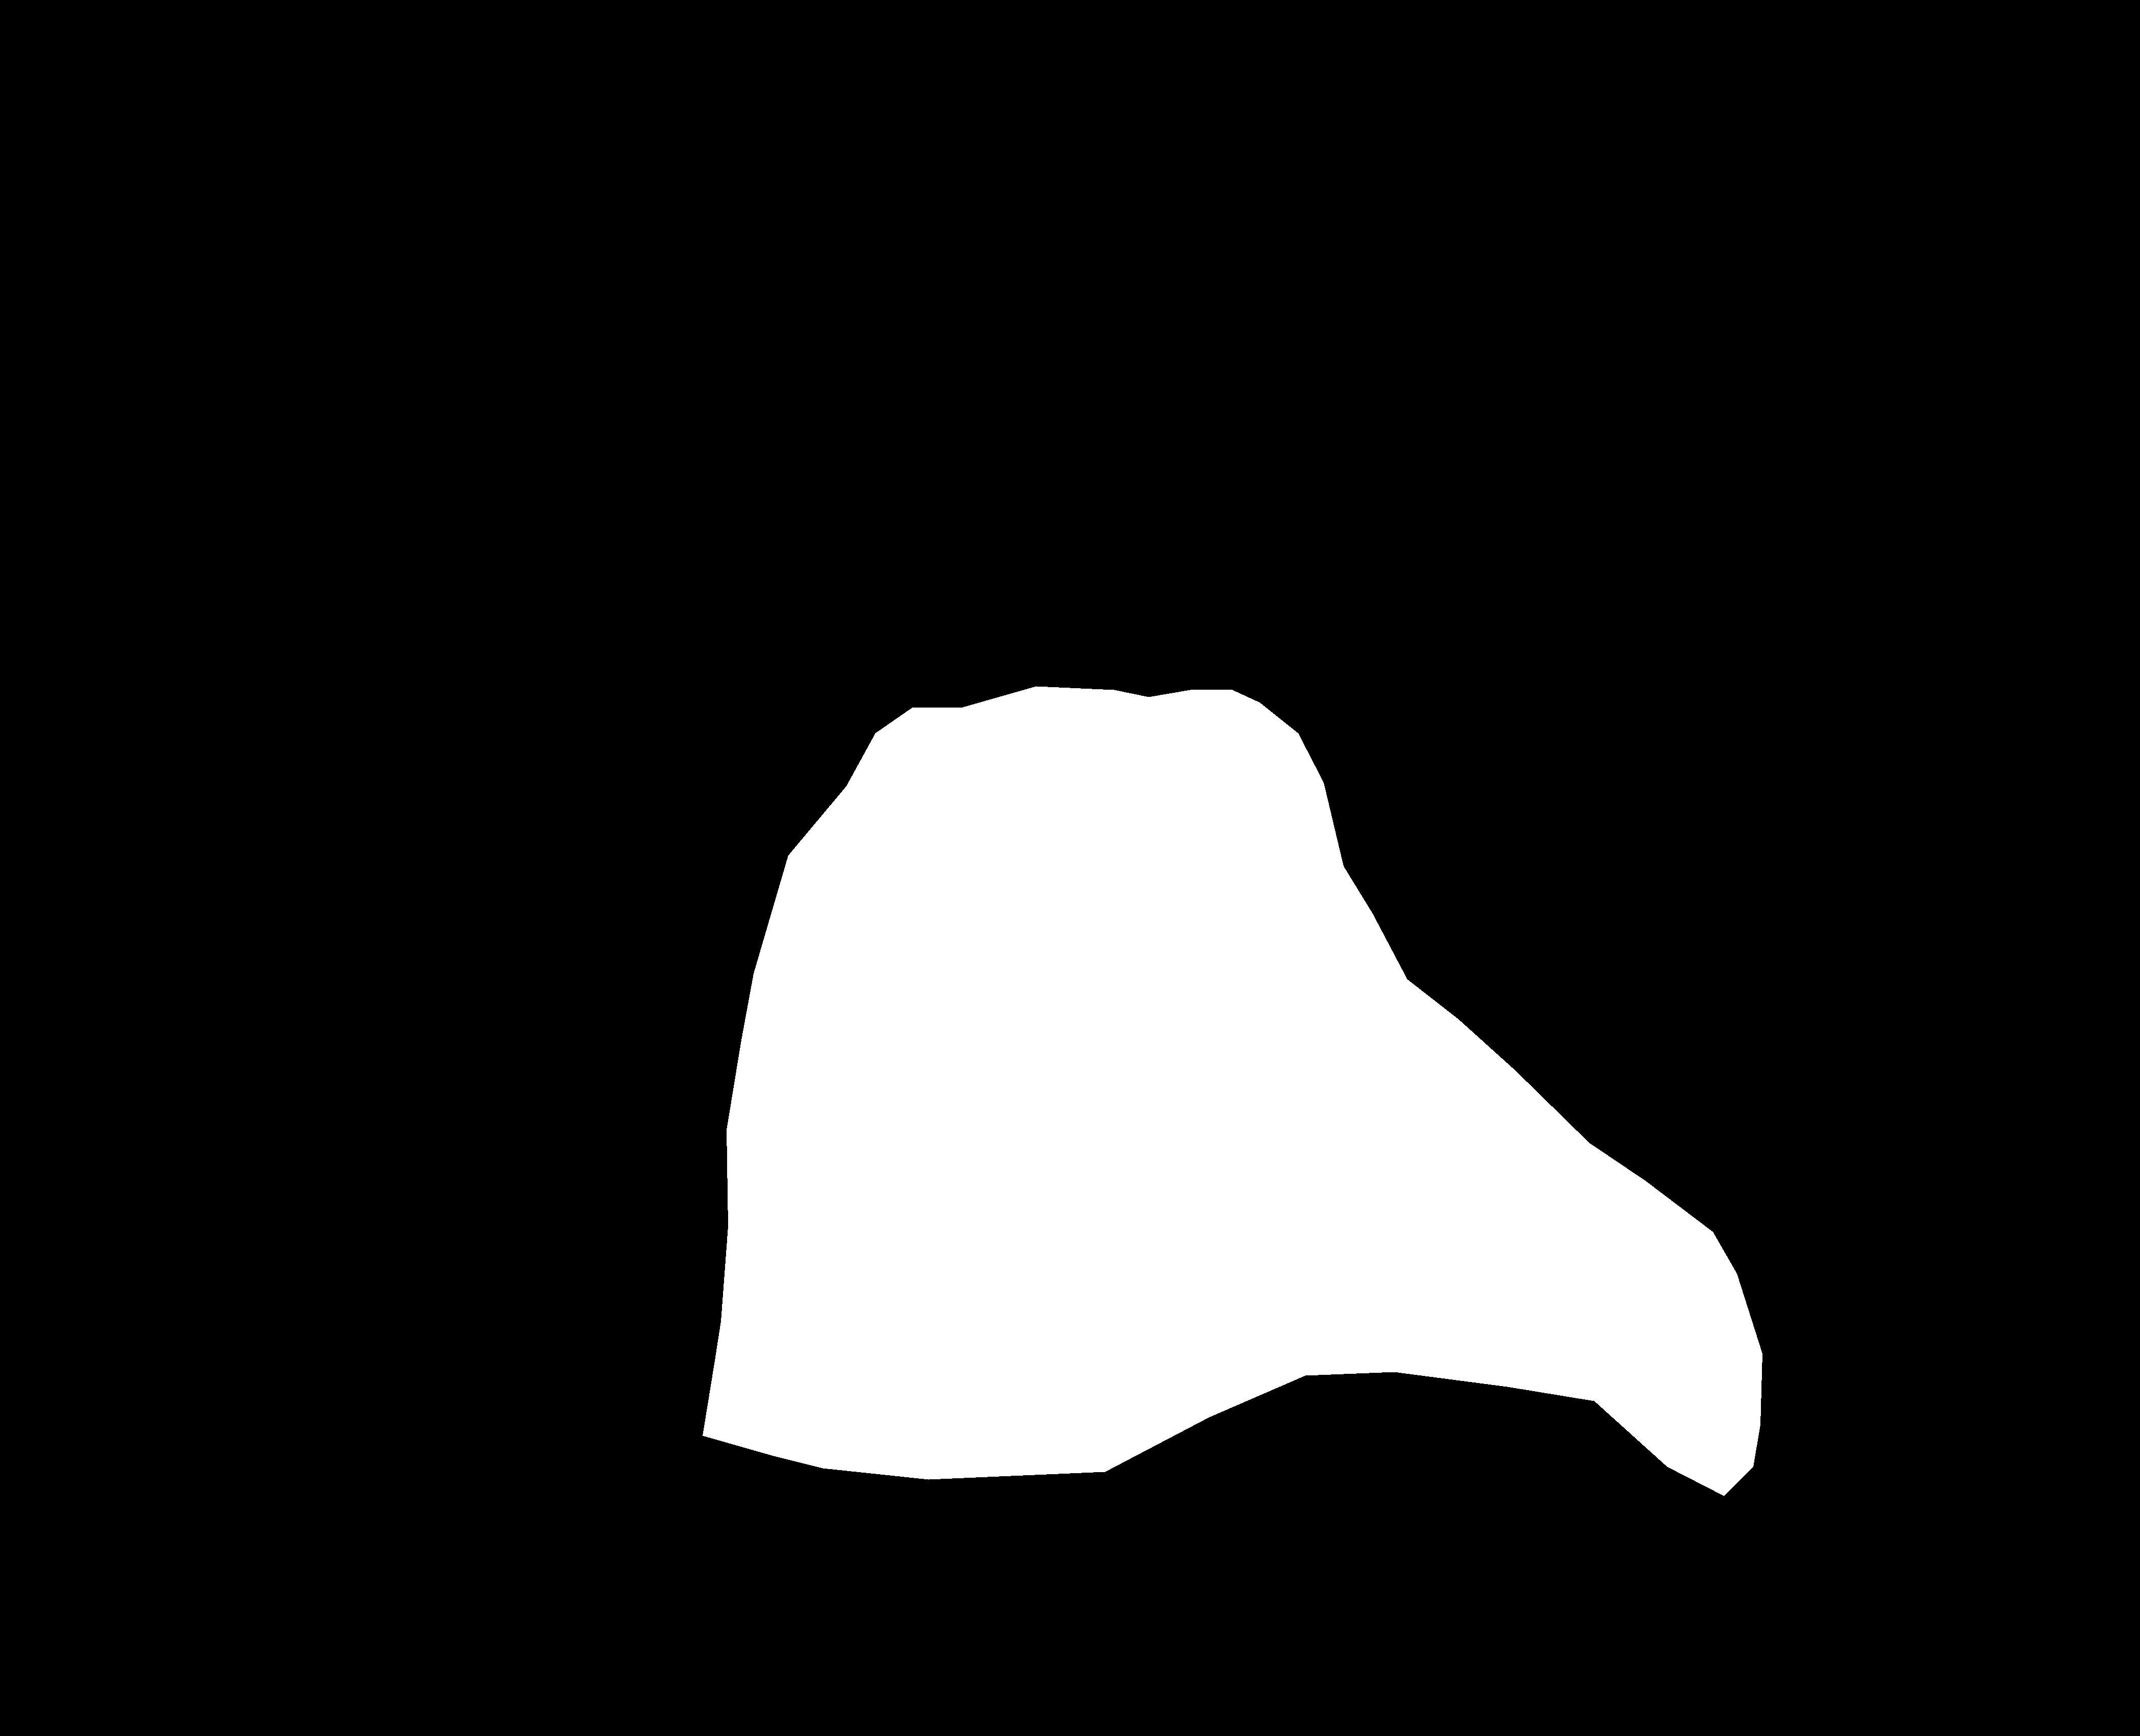heart: (703, 686, 1763, 1495)
left_lung: (200, 229, 923, 1522)
right_lung: (1143, 207, 1810, 1623)
